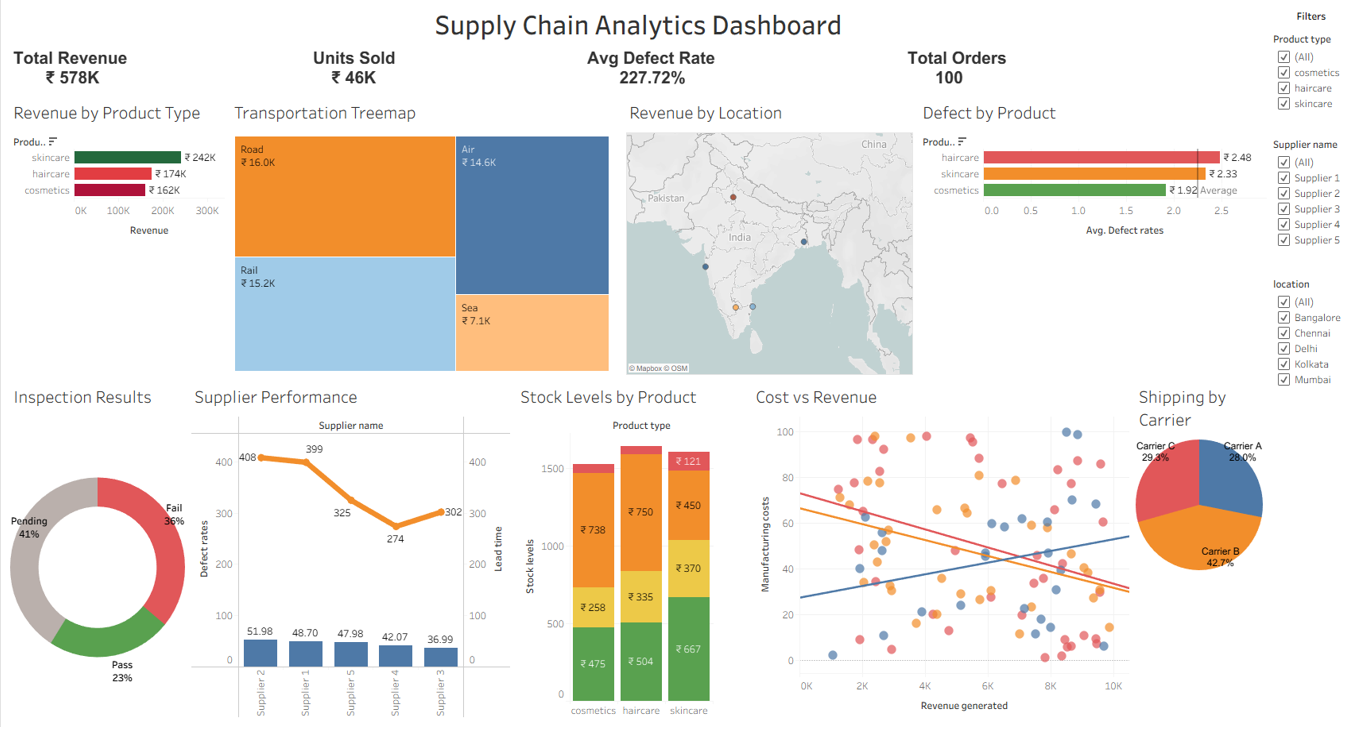

The dashboard page shown, as its layout file describes it:
{"tool":"tableau","page":{"name":"Supply Chain Analytics Dashboard","canvas":[1000,1000],"units":"permille","ordinal":0},"visuals":[{"type":"title","box":[4.7,8.9,930.1,58]},{"type":"text","box":[934.8,8.9,60.6,35.7]},{"type":"filter","title":"Total Orders","param":"[federated.1799aem1ec9gf81abxxdw17xmn19].[none:Product type:nk]","box":[934.8,44.6,60.6,144]},{"type":"worksheet","title":"Total Revenue","mark":"Automatic","box":[4.7,67,220.6,67]},{"type":"worksheet","title":"Units Sold","mark":"Automatic","box":[225.3,67,201.7,67]},{"type":"worksheet","title":"Avg Defect Rate","mark":"Automatic","box":[427.1,67,235.7,67]},{"type":"worksheet","title":"Total Orders","mark":"Automatic","box":[662.8,67,272,67]},{"type":"worksheet","title":"Revenue by Product Type","mark":"Automatic","rows":["Product type"],"cols":["Revenue generated"],"box":[4.7,133.9,162.6,388.4]},{"type":"worksheet","title":"Transportation Treemap","mark":"Automatic","box":[167.3,133.9,290.9,388.4]},{"type":"worksheet","title":"Revenue by Location","mark":"Multipolygon","box":[458.1,133.9,216.1,388.4]},{"type":"worksheet","title":"Defect by Product","mark":"Automatic","rows":["Product type"],"cols":["Defect rates"],"box":[674.2,133.9,260.6,388.4]},{"type":"filter","title":"Total Orders","param":"[federated.1799aem1ec9gf81abxxdw17xmn19].[none:Supplier name:nk]","box":[934.8,188.6,60.6,190.8]},{"type":"filter","title":"Total Orders","param":"[federated.1799aem1ec9gf81abxxdw17xmn19].[none:Location:nk]","box":[934.8,379.4,60.6,611.6]},{"type":"worksheet","title":"Inspection Results","mark":"Pie","rows":["Calculation_1222672823410694","Calculation_1222672823410694"],"box":[4.7,522.3,133.5,468.8]},{"type":"worksheet","title":"Supplier Performance","mark":"Bar","rows":["Defect rates","Lead time"],"cols":["Supplier name"],"box":[138.2,522.3,239.8,468.8]},{"type":"worksheet","title":"Stock Levels by Product ","mark":"Bar","rows":["Stock levels"],"cols":["Product type"],"box":[378,522.3,173.3,468.8]},{"type":"worksheet","title":"Cost vs Revenue","mark":"Circle","rows":["Manufacturing costs"],"cols":["Revenue generated"],"box":[551.3,522.3,281.9,468.8]},{"type":"worksheet","title":"Shipping by Carrier","mark":"Pie","box":[833.3,522.3,101.5,468.8]}]}

Visuals, with their boxes on the dashboard's canvas, which has no fixed pixel size, in thousandths of its width and height (x1, y1, x2, y2). These are canvas units, not pixel positions in the 1356x731 screenshot, which may show the page scaled, cropped or inside an application window:
title: 5,9,935,67
text: 935,9,995,45
"Total Orders" filter: 935,45,995,189
"Total Revenue" worksheet: 5,67,225,134
"Units Sold" worksheet: 225,67,427,134
"Avg Defect Rate" worksheet: 427,67,663,134
"Total Orders" worksheet: 663,67,935,134
"Revenue by Product Type" worksheet: 5,134,167,522
"Transportation Treemap" worksheet: 167,134,458,522
"Revenue by Location" worksheet (Multipolygon marks): 458,134,674,522
"Defect by Product" worksheet: 674,134,935,522
"Total Orders" filter: 935,189,995,379
"Total Orders" filter: 935,379,995,991
"Inspection Results" worksheet (Pie marks): 5,522,138,991
"Supplier Performance" worksheet (Bar marks): 138,522,378,991
"Stock Levels by Product " worksheet (Bar marks): 378,522,551,991
"Cost vs Revenue" worksheet (Circle marks): 551,522,833,991
"Shipping by Carrier" worksheet (Pie marks): 833,522,935,991
